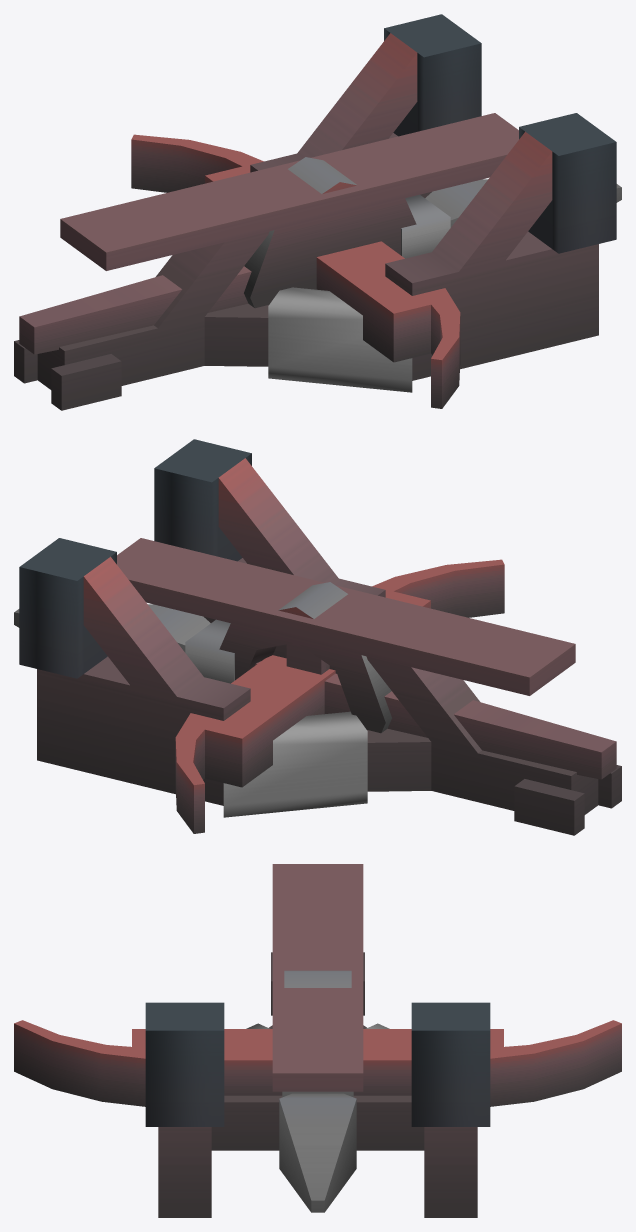
The model's file is BalistaParts.fbx.
The picture shows the model from 3 angles, top to bottom: view 1: azimuth 30°, elevation 25°; view 2: azimuth 150°, elevation 25°; view 3: azimuth 270°, elevation 25°; orthographic projection.
Parts seen in each view (by area): view 1: ComponentBody, arrow, wheel, Component2, Plank; view 2: ComponentBody, arrow, Component2, Plank, wheel; view 3: ComponentBody, Component2, arrow, Plank, wheel.
Part boxes in pixels (bbox=[...]): ComponentBody: bbox=[14, 14, 616, 410]; arrow: bbox=[19, 179, 621, 354]; wheel: bbox=[244, 157, 416, 308]; Component2: bbox=[131, 134, 460, 408]; Plank: bbox=[205, 164, 430, 362]; ComponentBody: bbox=[19, 439, 621, 835]; arrow: bbox=[14, 604, 616, 779]; Component2: bbox=[175, 559, 504, 833]; Plank: bbox=[205, 589, 430, 787]; wheel: bbox=[219, 582, 391, 733]; ComponentBody: bbox=[145, 864, 490, 1217]; Component2: bbox=[14, 1020, 621, 1106]; arrow: bbox=[279, 1091, 356, 1212]; Plank: bbox=[132, 1029, 503, 1048]; wheel: bbox=[284, 970, 351, 987].
Size of the model in its own units: 133 by 49.09 by 120.
